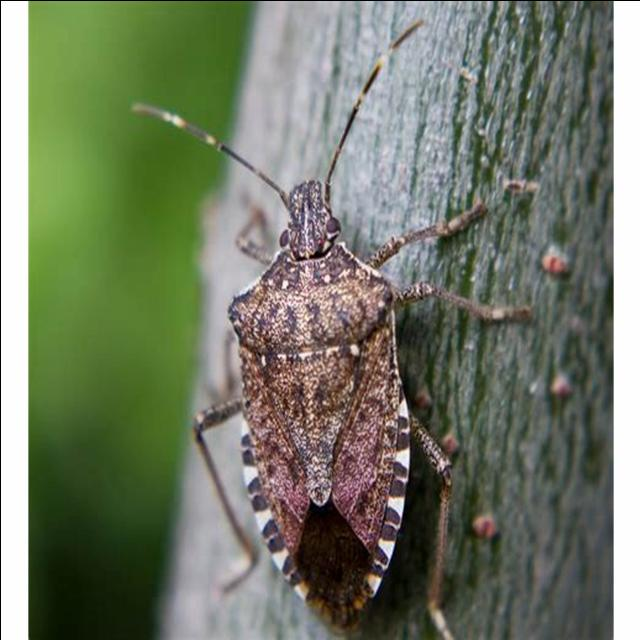stink_bug: (116, 18, 515, 630)
